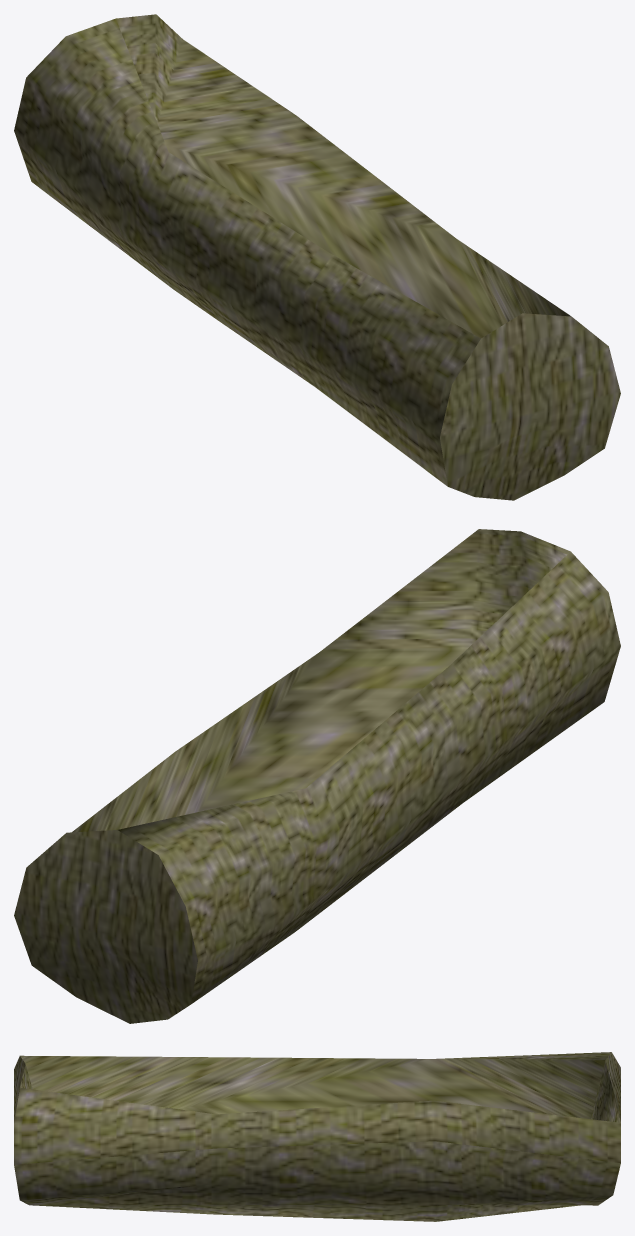
File: dugout.obj
The picture shows the model from 3 angles, top to bottom: view 1: azimuth 30°, elevation 25°; view 2: azimuth 150°, elevation 25°; view 3: azimuth 270°, elevation 25°; orthographic projection. The views are drawn at different scales.
Parts seen in each view (by area): view 1: Cylinder02, Duplicate01; view 2: Cylinder02, Duplicate02; view 3: Cylinder02, Duplicate02, Duplicate01.
Part boxes in pixels (box(x1,y1,x2,y2)): Cylinder02: box(14, 14, 570, 486); Duplicate01: box(440, 313, 620, 500); Cylinder02: box(72, 529, 620, 1003); Duplicate02: box(14, 830, 197, 1023); Cylinder02: box(14, 1052, 620, 1221); Duplicate02: box(605, 1052, 620, 1121); Duplicate01: box(14, 1056, 25, 1122).
Bounding box in the file's own units: 8.07 × 8.74 × 31.64.
